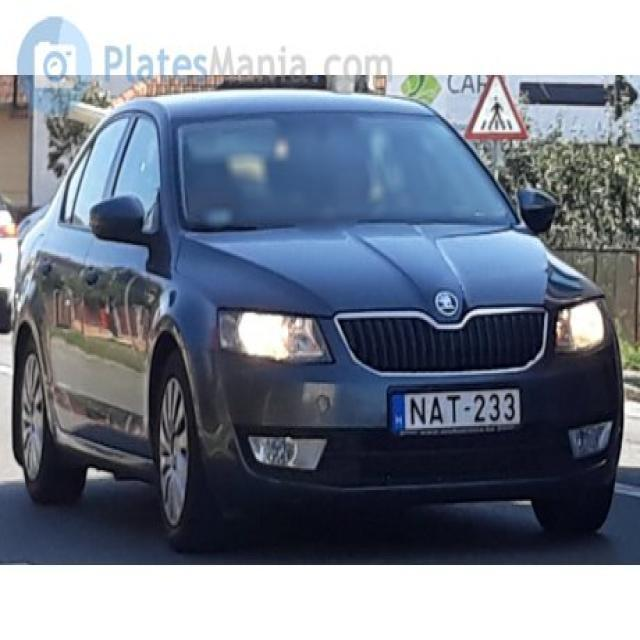licence: (386, 383, 523, 440)
